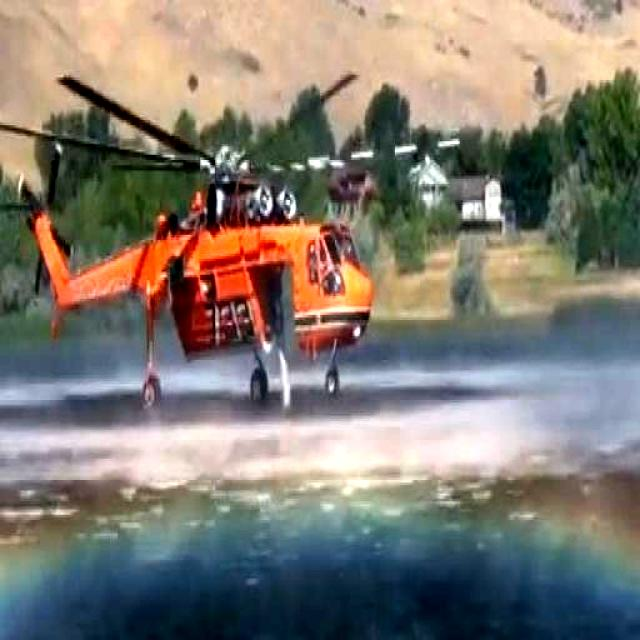drone: (0, 70, 421, 414)
